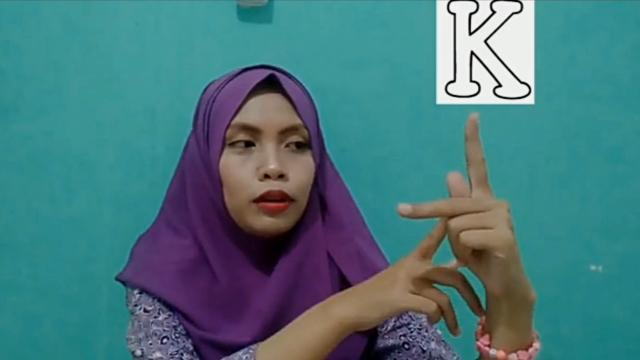K: (392, 111, 528, 309)
